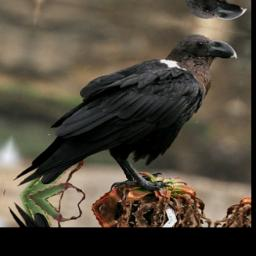Crow: (12, 8, 238, 217)
